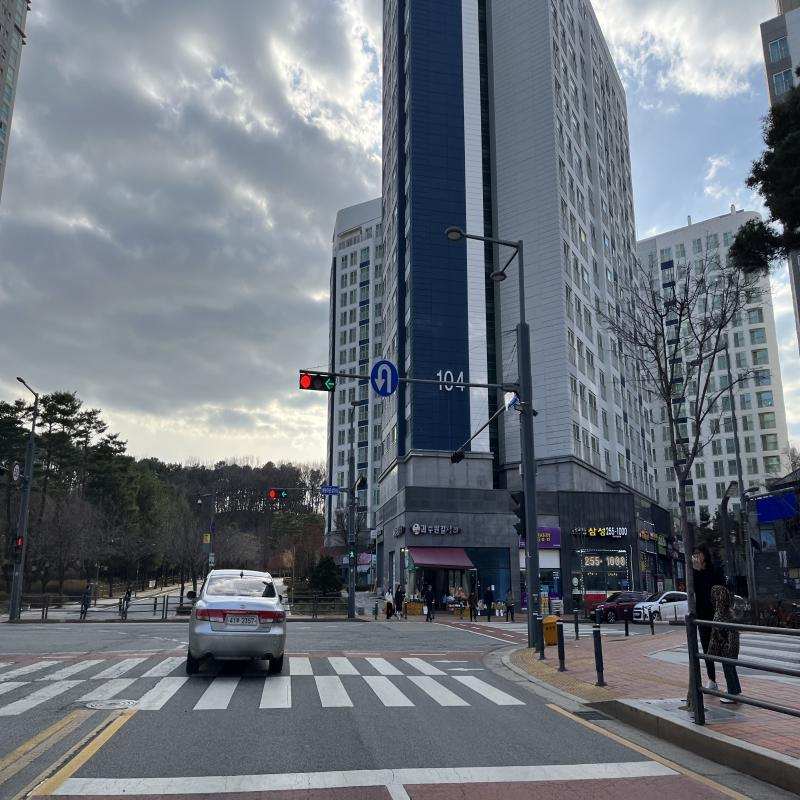left: (324, 376, 336, 390), (281, 491, 287, 497)
red: (300, 375, 312, 388)
